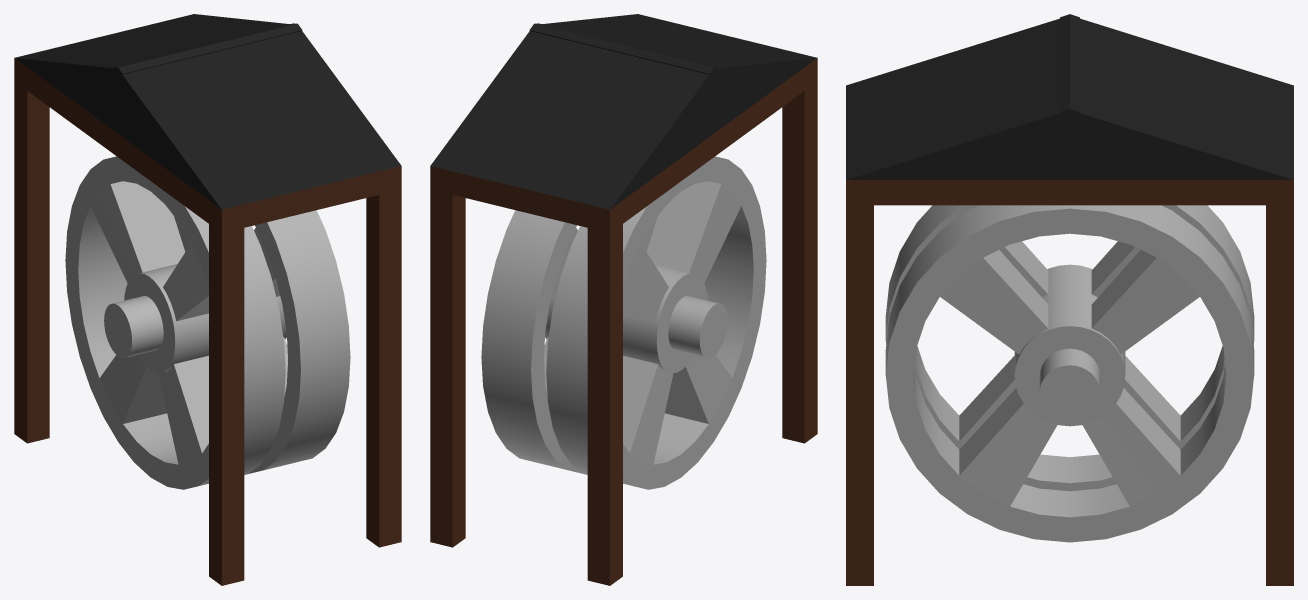
The model's file is large_power_01.fbx.
3 renders of one model, left to right at view 1: azimuth 30°, elevation 25°; view 2: azimuth 150°, elevation 25°; view 3: azimuth 270°, elevation 25°, orthographic. The views are drawn at different scales.
Parts seen in each view (by area): view 1: LargePower_01; view 2: LargePower_01; view 3: LargePower_01.
Part boxes in pixels (x1,y1,x2,y2): LargePower_01: [14, 14, 401, 585]; LargePower_01: [430, 14, 817, 585]; LargePower_01: [846, 14, 1293, 585].
Size of the model in its own units: 200 by 470 by 400.
